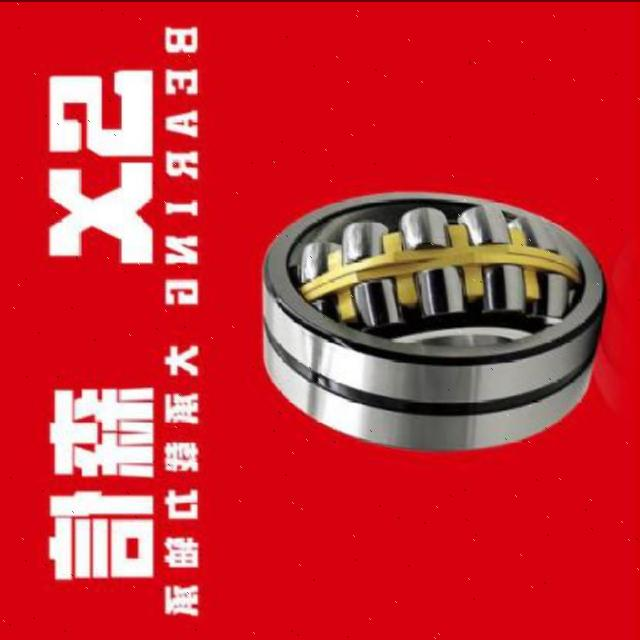Bearing: (257, 192, 608, 452)
